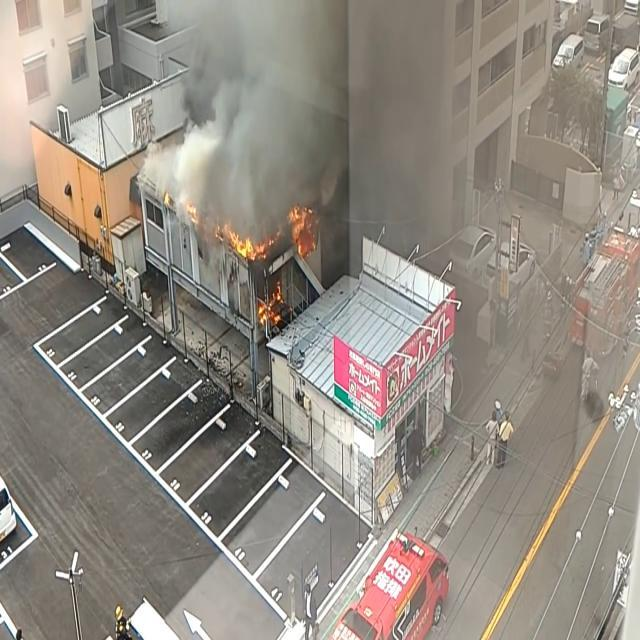Fire: (287, 198, 319, 262), (222, 222, 268, 265), (256, 277, 284, 330)
Smoke: (160, 0, 486, 246), (161, 0, 350, 239)
